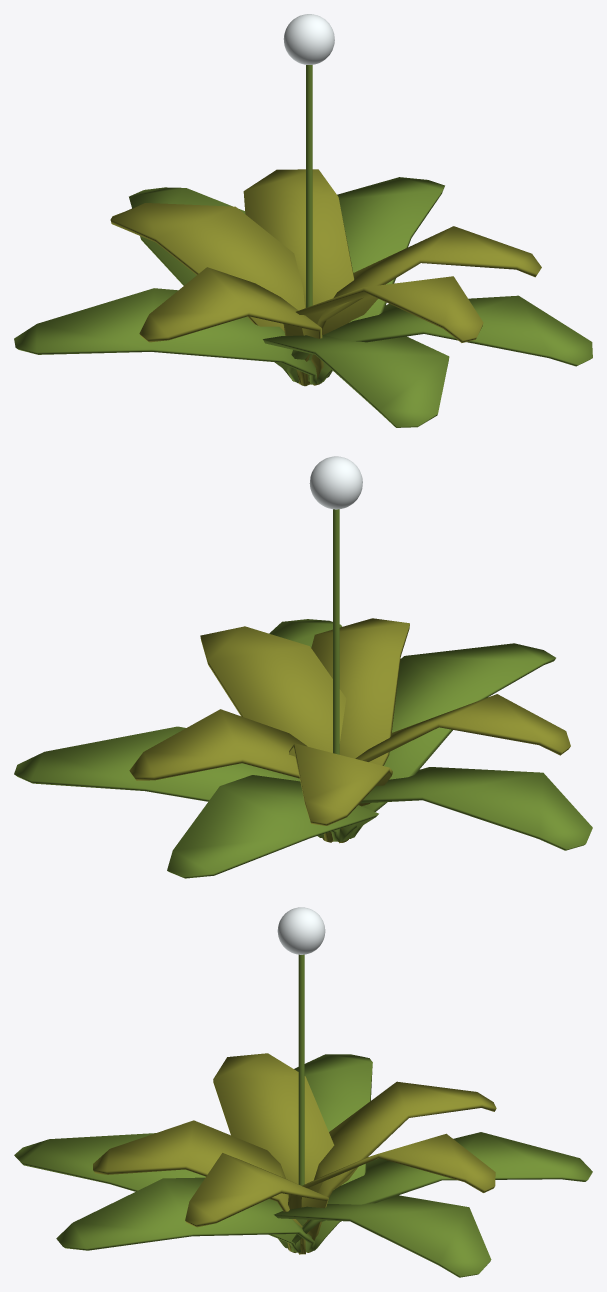
File: weed_white.fbx
3 views of the same model, one above another, from view 1: azimuth 30°, elevation 25°; view 2: azimuth 150°, elevation 25°; view 3: azimuth 270°, elevation 25° (orthographic). The views are drawn at different scales.
Parts seen in each view (by area): view 1: single weed.001; view 2: single weed.001; view 3: single weed.001.
Boxes of the visible parts, x1=… form: single weed.001: x1=14, y1=14, x2=592, y2=427; single weed.001: x1=14, y1=456, x2=592, y2=878; single weed.001: x1=14, y1=907, x2=592, y2=1277.
Bounding box in the file's own units: 103 × 74.06 × 114.
